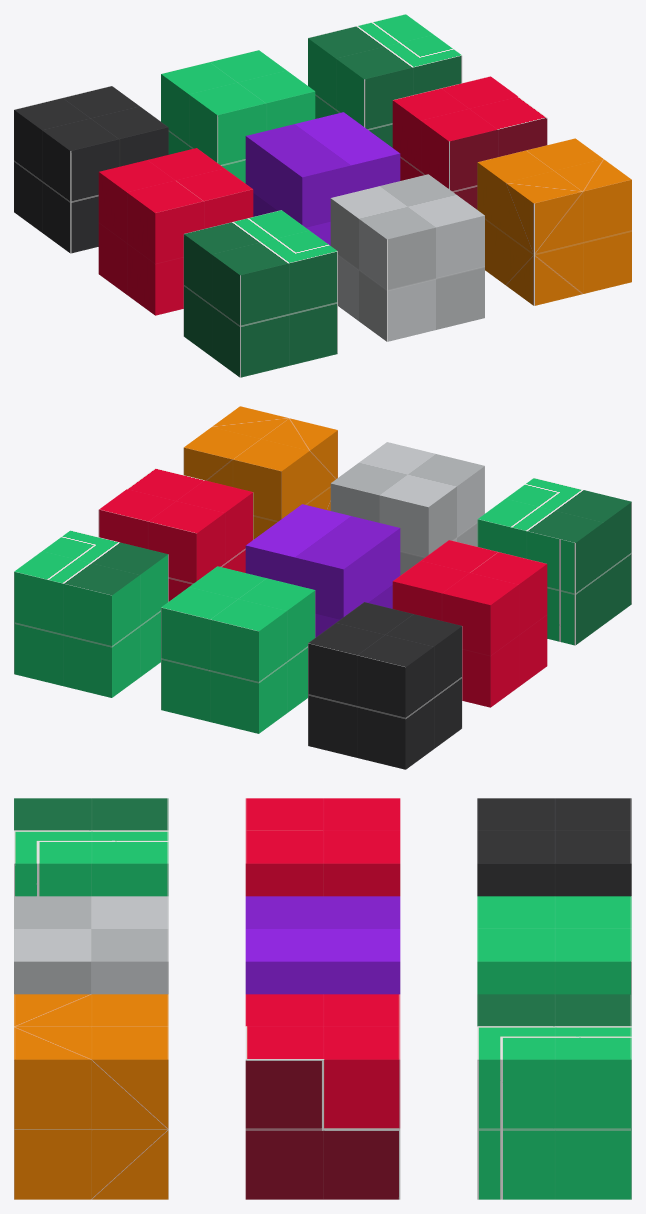
3 views of the same model, one above another, from view 1: azimuth 30°, elevation 25°; view 2: azimuth 150°, elevation 25°; view 3: azimuth 270°, elevation 25° (orthographic). The views are drawn at different scales.
Visible parts, largest first — view 1: Cube.008, Cube.007, Cube.006, Cube.002, Cube.005, Cube, Cube.001, Cube.003, Cube.004; view 2: Cube.005, Cube.004, Cube.003, Cube.002, Cube.008, Cube, Cube.001, Cube.006, Cube.007; view 3: Cube.001, Cube.004, Cube.007, Cube, Cube.002, Cube.003, Cube.005, Cube.006, Cube.008.
Part boxes in pixels (x1=…): Cube.008: x1=183, y1=210, x2=337, y2=377; Cube.007: x1=477, y1=138, x2=631, y2=305; Cube.006: x1=330, y1=174, x2=484, y2=341; Cube.002: x1=98, y1=148, x2=253, y2=315; Cube.005: x1=14, y1=86, x2=168, y2=253; Cube: x1=245, y1=112, x2=400, y2=245; Cube.001: x1=392, y1=76, x2=547, y2=209; Cube.003: x1=161, y1=50, x2=315, y2=183; Cube.004: x1=308, y1=14, x2=462, y2=147; Cube.005: x1=308, y1=602, x2=462, y2=769; Cube.004: x1=14, y1=530, x2=168, y2=697; Cube.003: x1=161, y1=566, x2=315, y2=733; Cube.002: x1=392, y1=540, x2=547, y2=707; Cube.008: x1=477, y1=478, x2=631, y2=645; Cube: x1=245, y1=504, x2=400, y2=637; Cube.001: x1=98, y1=468, x2=253, y2=601; Cube.006: x1=330, y1=442, x2=484, y2=575; Cube.007: x1=183, y1=406, x2=337, y2=539; Cube.001: x1=245, y1=994, x2=400, y2=1199; Cube.004: x1=477, y1=994, x2=631, y2=1199; Cube.007: x1=14, y1=994, x2=168, y2=1199; Cube: x1=245, y1=896, x2=400, y2=994; Cube.002: x1=245, y1=798, x2=400, y2=896; Cube.003: x1=477, y1=896, x2=631, y2=994; Cube.005: x1=477, y1=798, x2=631, y2=896; Cube.006: x1=14, y1=896, x2=168, y2=994; Cube.008: x1=14, y1=798, x2=168, y2=896.
Bounding box in the file's own units: 8 × 2 × 8.
9 materials, 9 textured.
